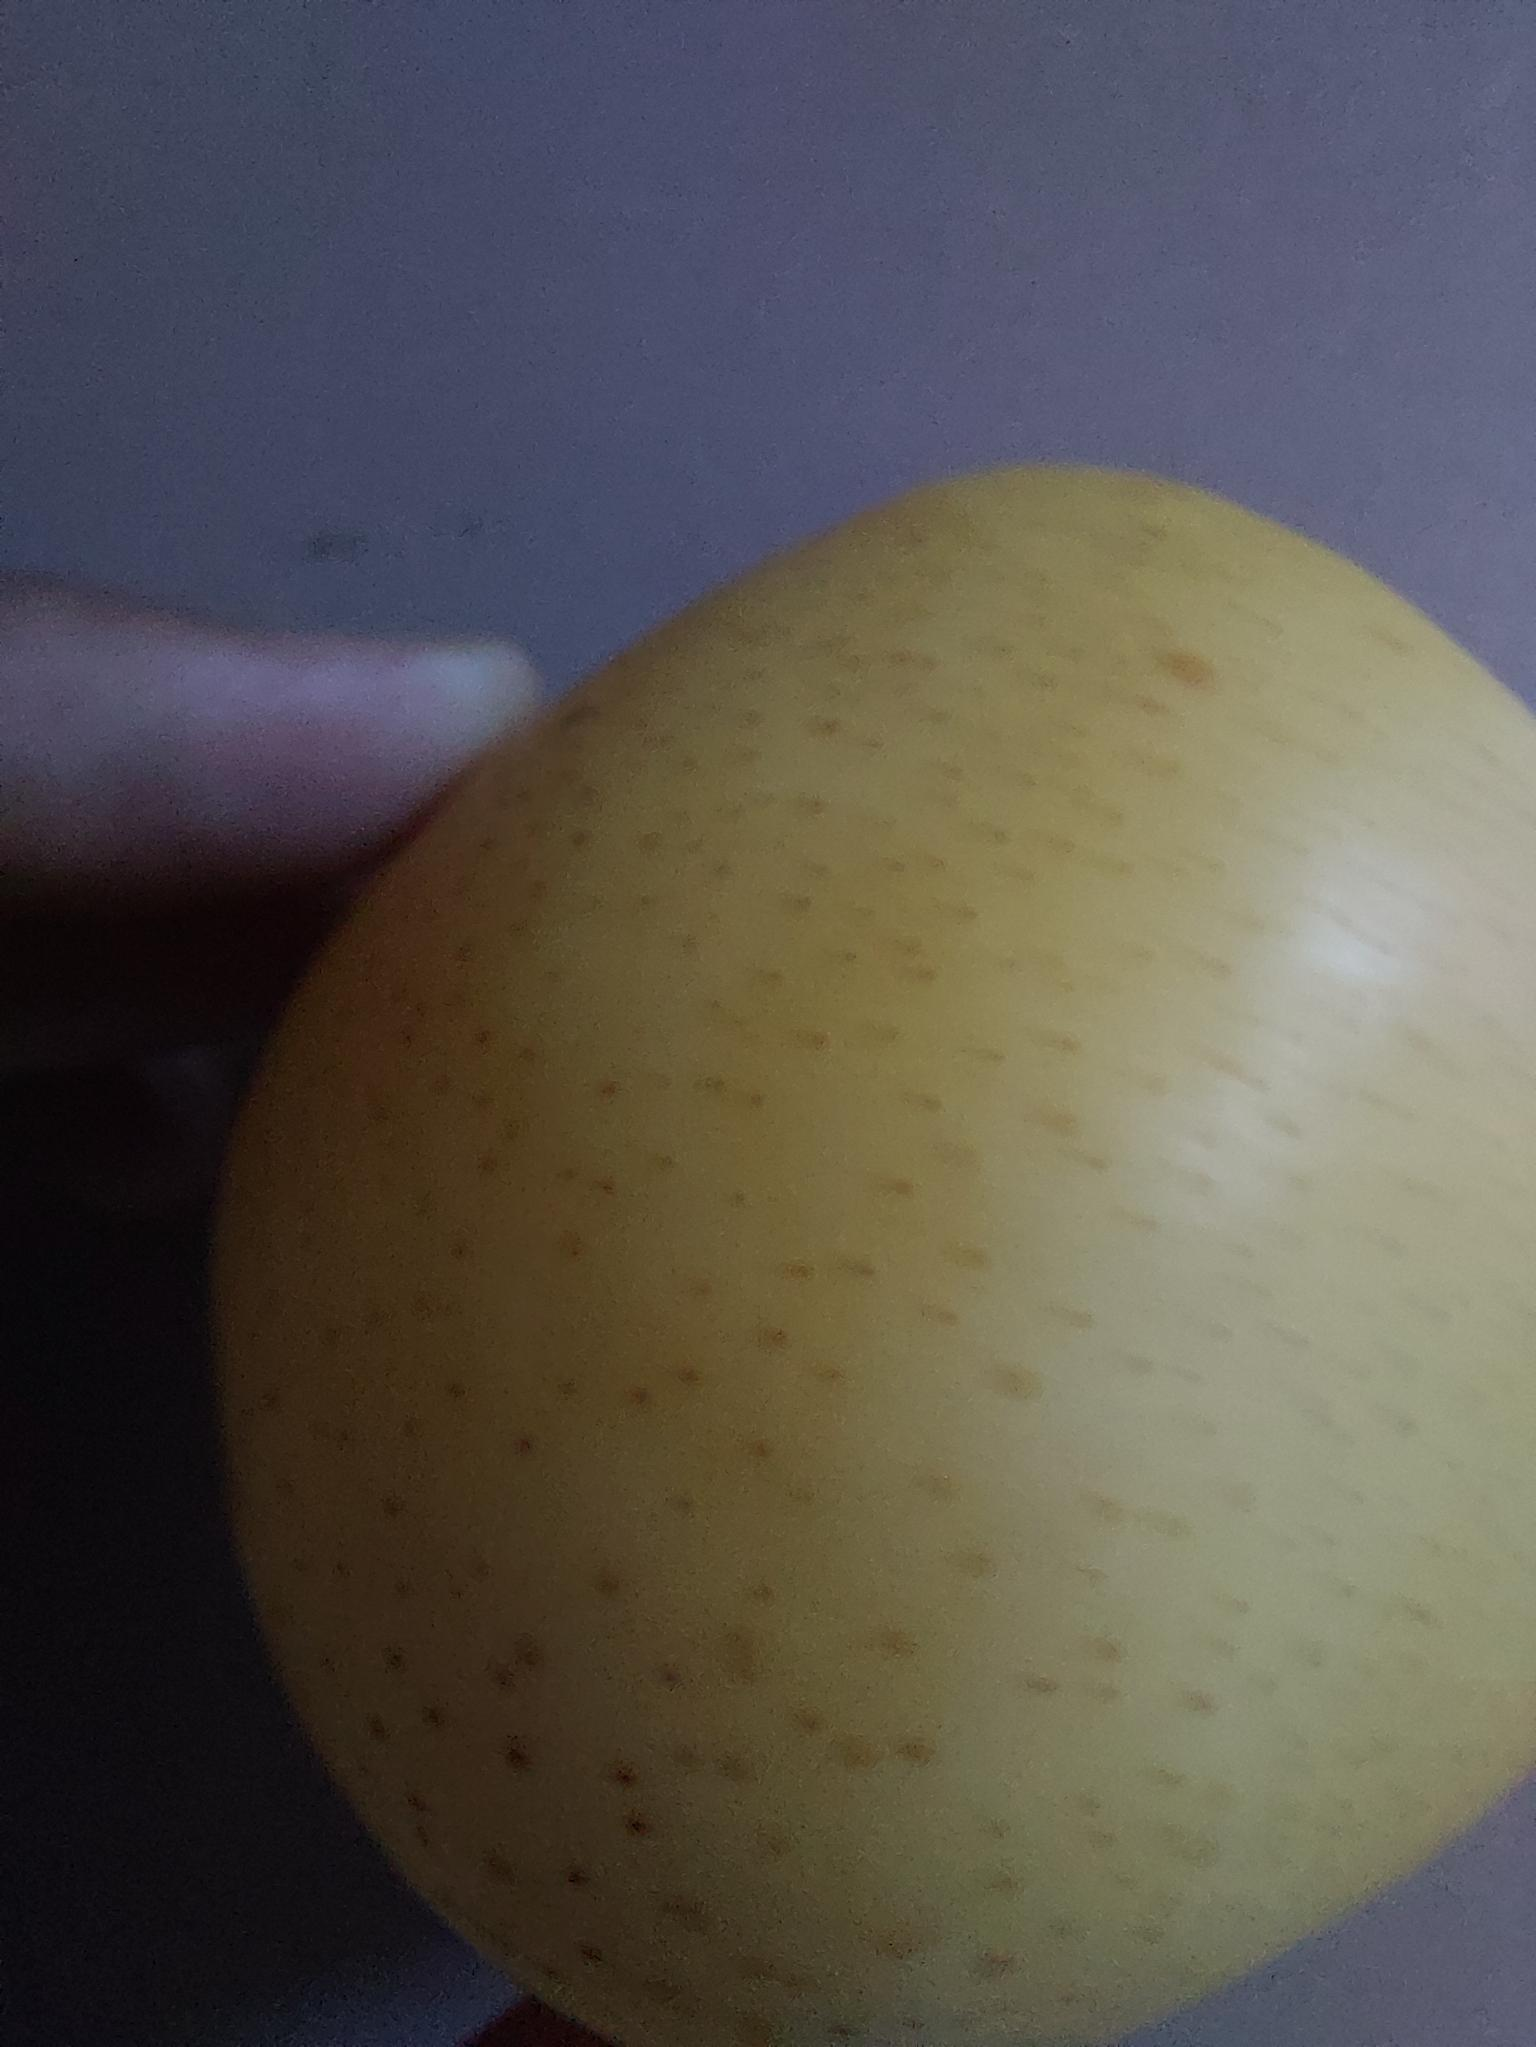Good Pear: (198, 445, 1534, 2047)
